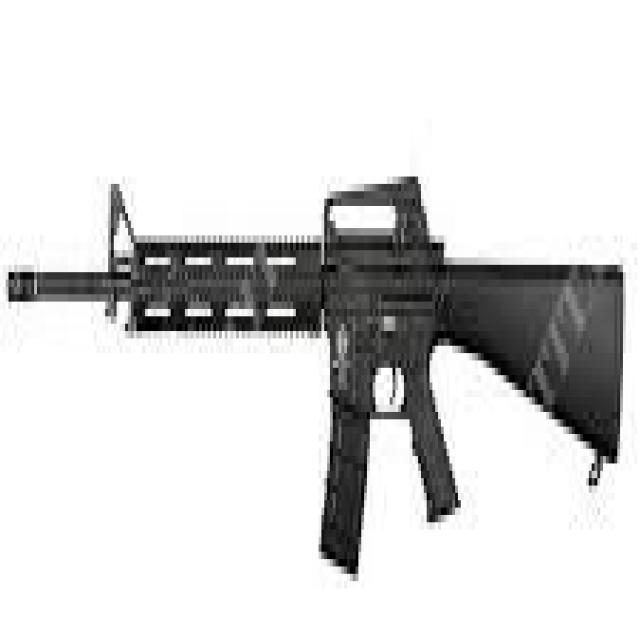rifle: (3, 167, 629, 599)
